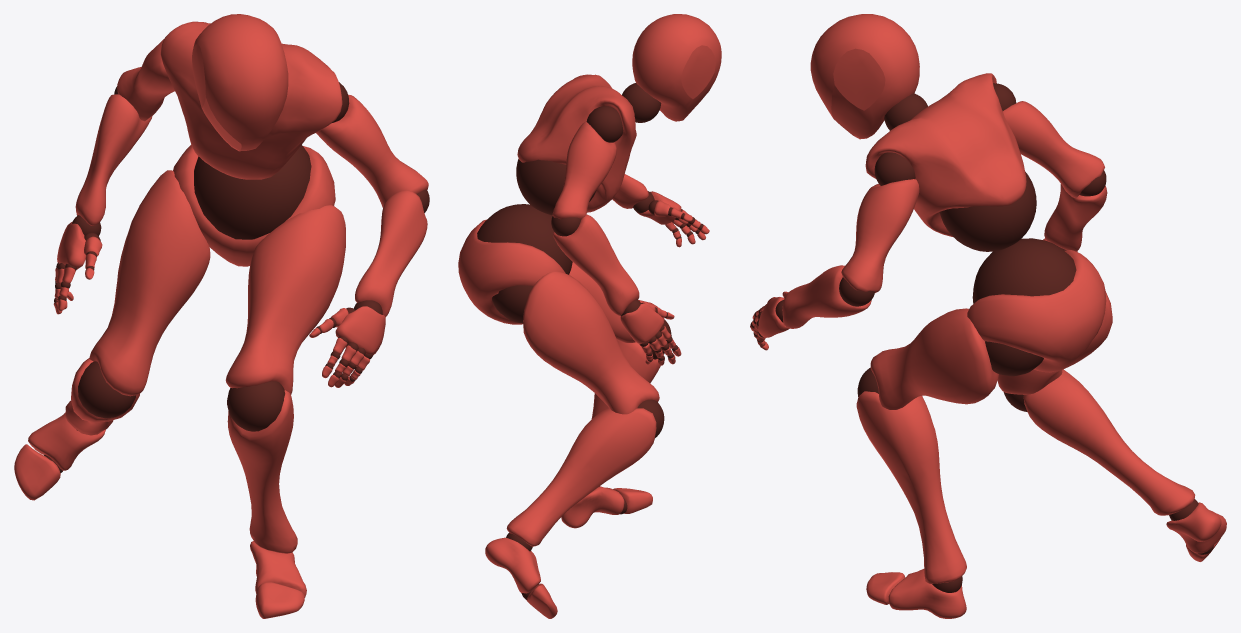
3 views of the same model, side by side, from view 1: azimuth 30°, elevation 25°; view 2: azimuth 150°, elevation 25°; view 3: azimuth 270°, elevation 25° (orthographic). The views are drawn at different scales.
Parts seen in each view (by area): view 1: Beta_Surface, Beta_Joints; view 2: Beta_Surface, Beta_Joints; view 3: Beta_Surface, Beta_Joints.
Part boxes in pixels (<box>): Beta_Surface: <box>14,14,428,618</box>; Beta_Joints: <box>44,82,429,472</box>; Beta_Surface: <box>458,14,721,618</box>; Beta_Joints: <box>477,83,703,599</box>; Beta_Surface: <box>750,14,1226,618</box>; Beta_Joints: <box>750,83,1213,592</box>.
Size of the model in its own units: 0.648 by 1.38 by 1.06.
